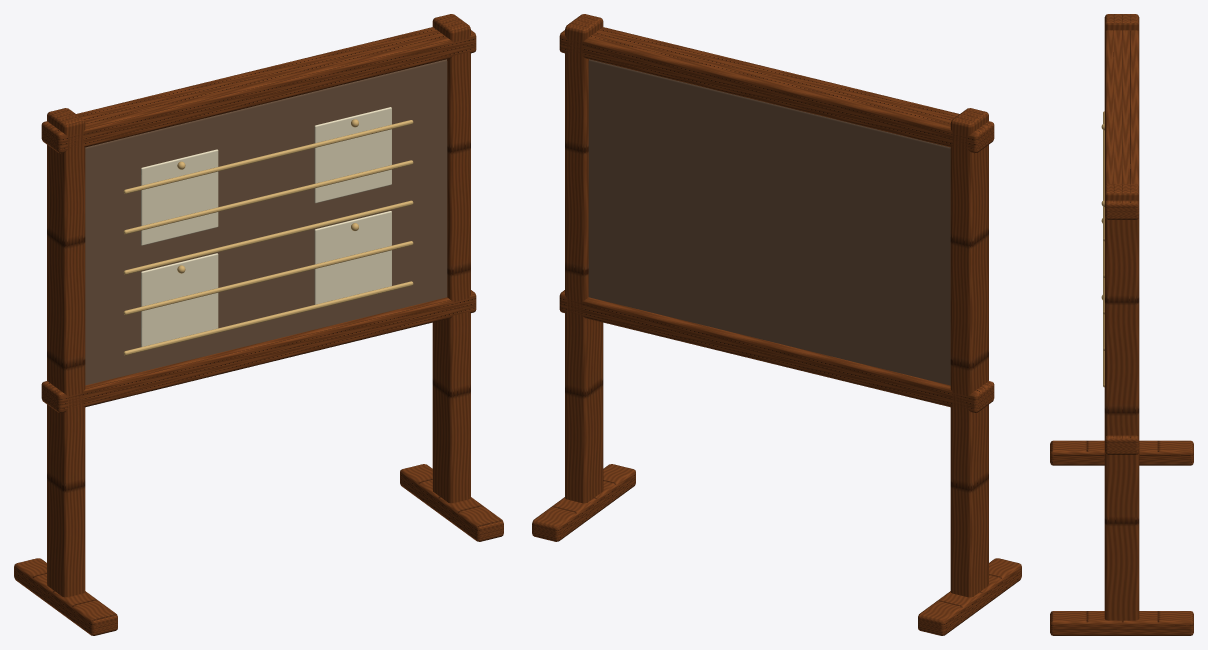
The model's file is adventurers-tavern-and-guild-hall-party-roster-board-8c055199__24749.glb.
3 renders of one model, left to right at view 1: azimuth 30°, elevation 25°; view 2: azimuth 150°, elevation 25°; view 3: azimuth 270°, elevation 25°, orthographic. The views are drawn at different scales.
Parts seen in each view (by area): view 1: party-roster-board; view 2: party-roster-board; view 3: party-roster-board.
Part boxes in pixels (box(x1,y1,x2,y2)): party-roster-board: box(14, 14, 503, 635); party-roster-board: box(532, 14, 1021, 635); party-roster-board: box(1050, 14, 1193, 635).
Bounding box in the file's own units: 1.52 × 1.7 × 0.5.
4 materials, 1 textured.
